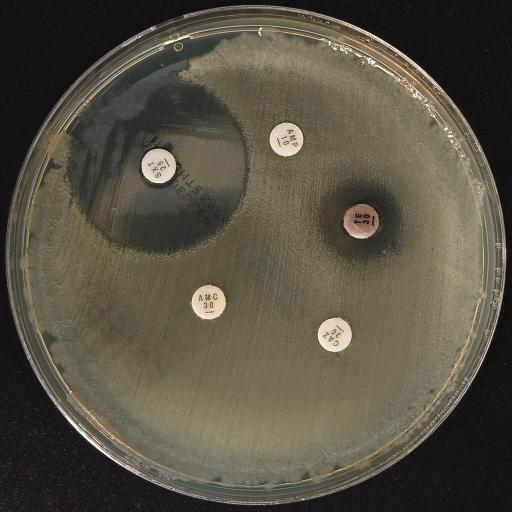disc: (141, 148, 177, 184), (192, 284, 226, 320), (318, 317, 352, 353), (343, 204, 379, 238), (270, 122, 304, 157)
